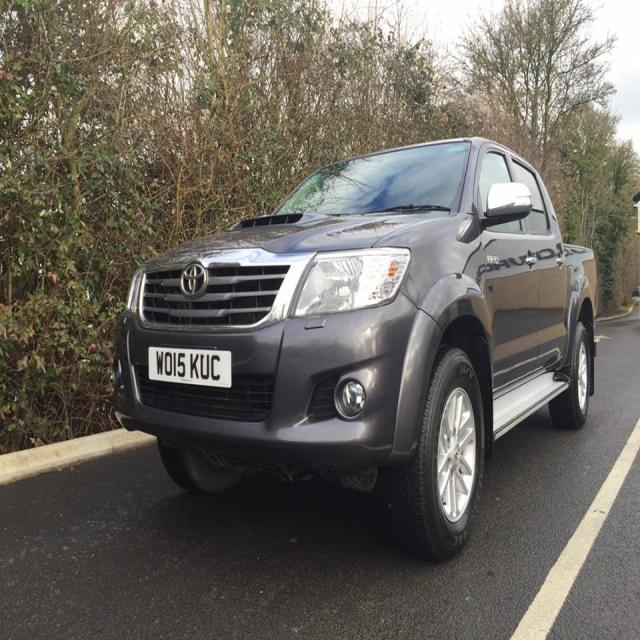light_vehicle: (97, 114, 598, 564)
